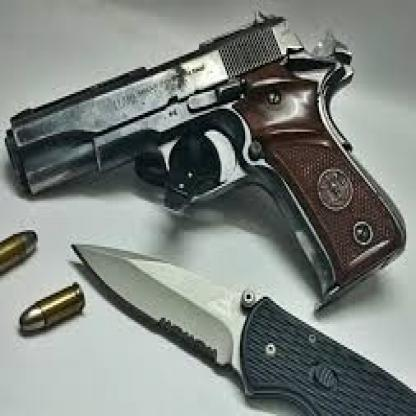Pistol: (2, 7, 406, 312)
